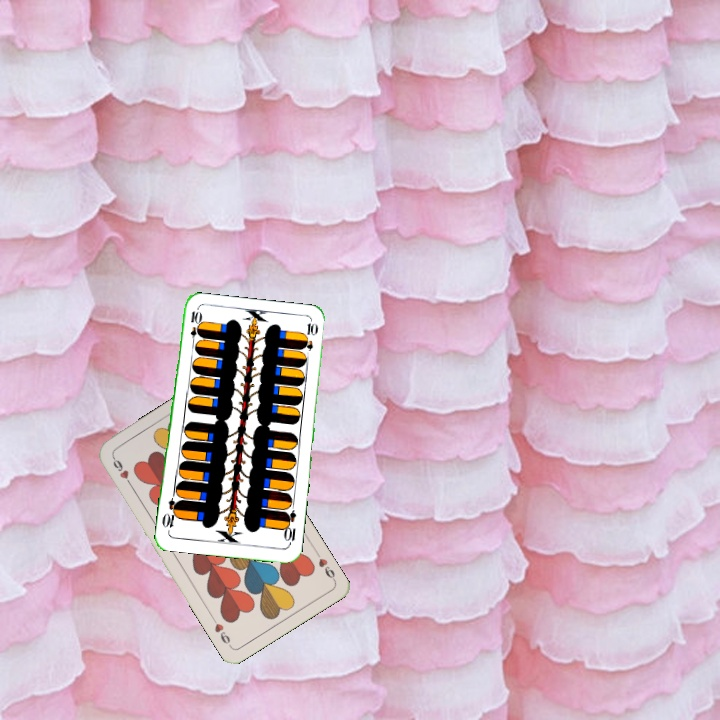E10: (279, 507, 299, 548), (186, 307, 202, 348)
H9: (311, 548, 338, 584), (108, 453, 135, 489)
